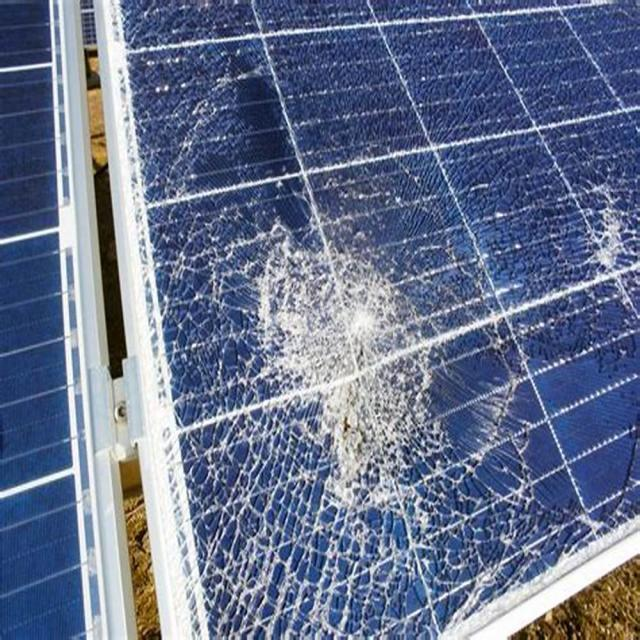Physical-damage: (106, 3, 637, 634)
